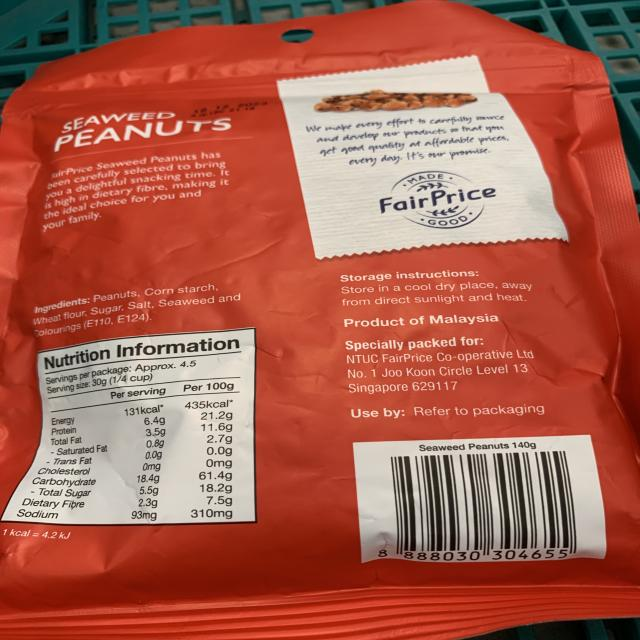object_name: (15, 32, 639, 617)
